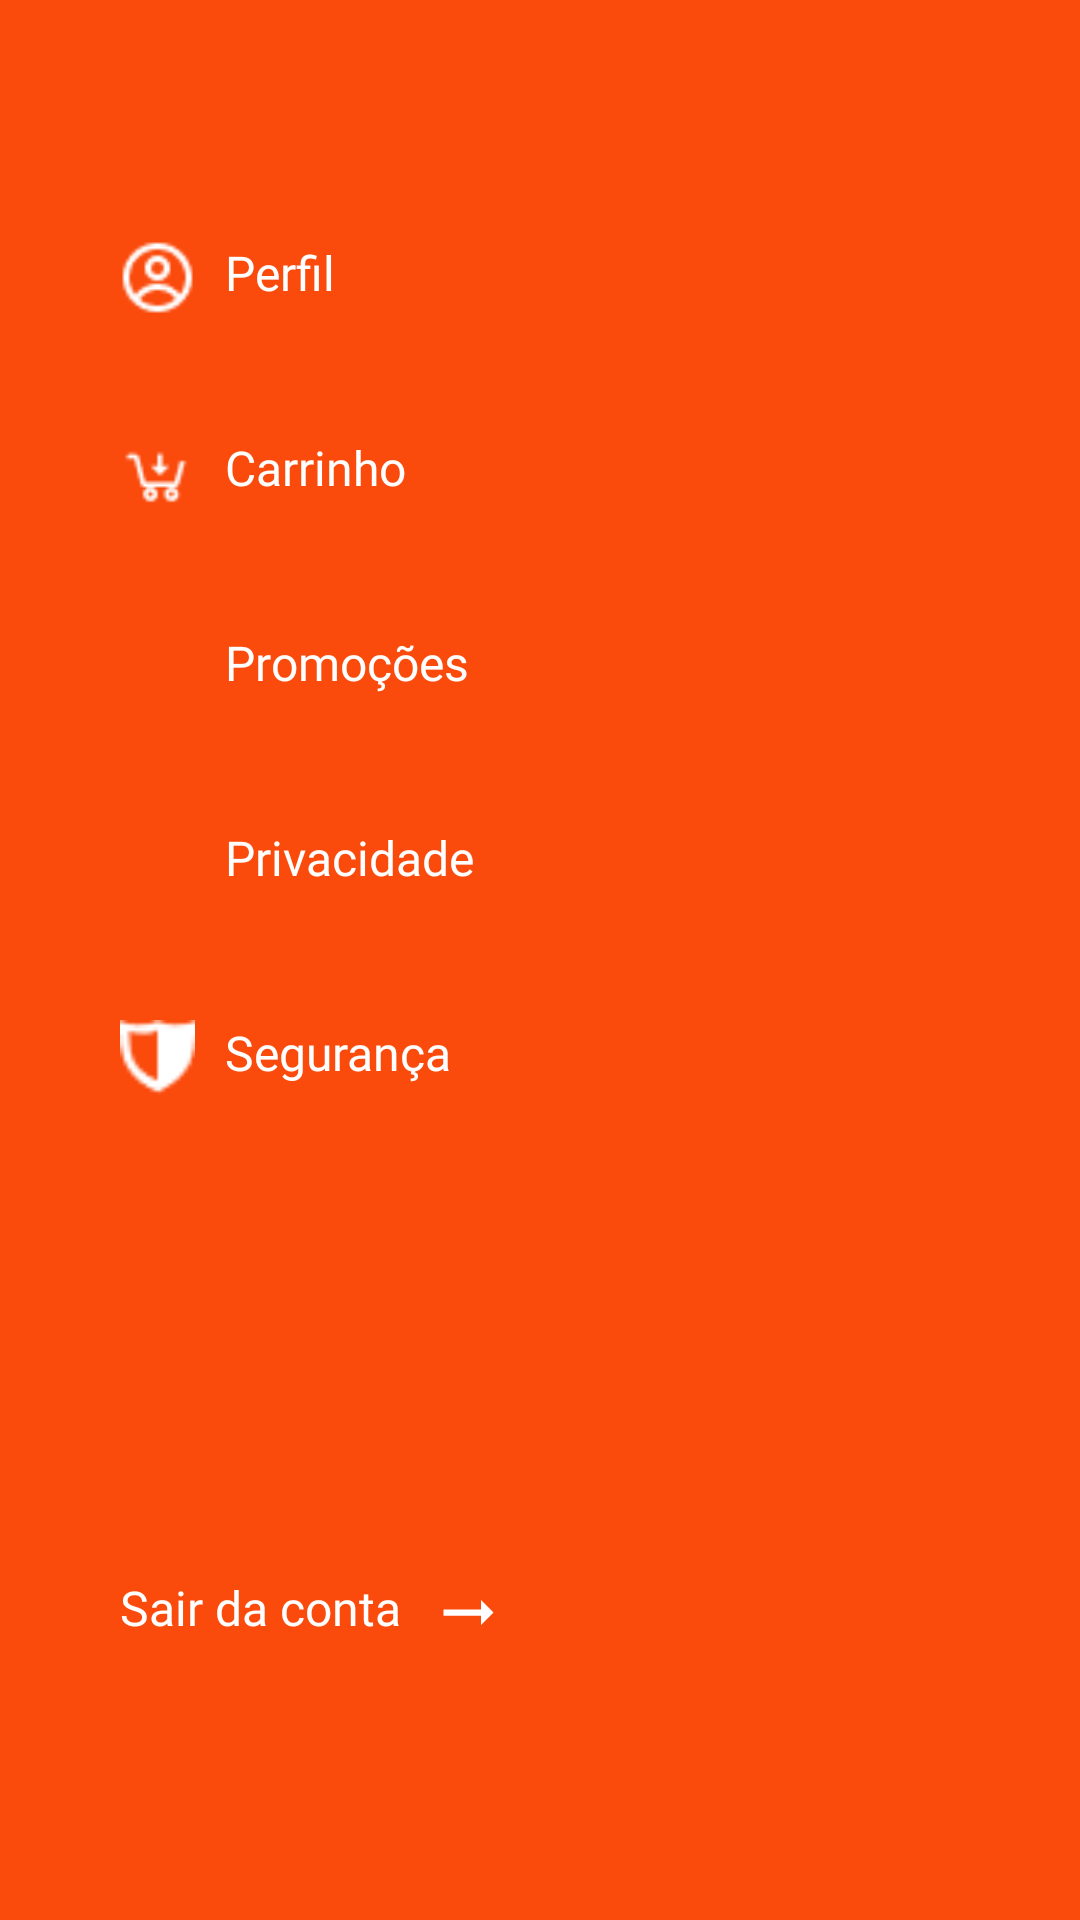

Screen size 1080×1920. Icon name, then its box in pixels as (x1, y1, x2, y2):
seguranca: (120, 1020, 195, 1093)
seta: (443, 1600, 494, 1625)
user menu: (122, 242, 193, 313)
